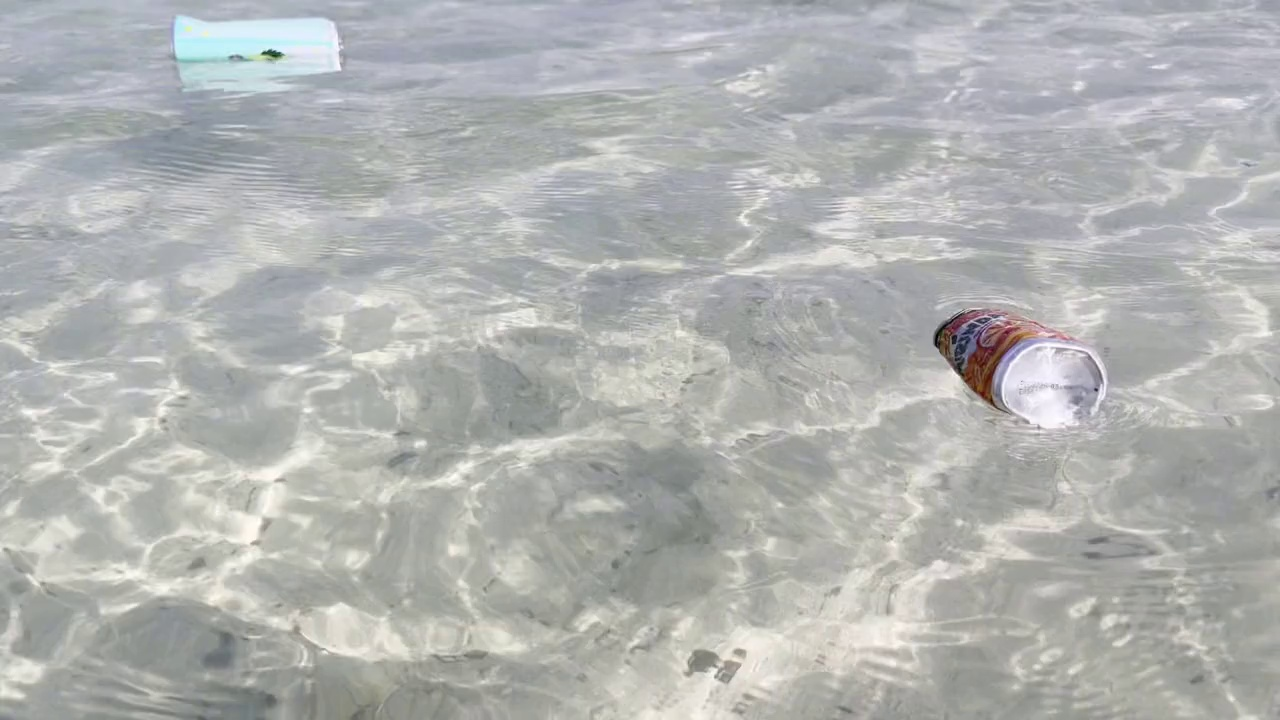debris: (926, 295, 1118, 440), (161, 5, 347, 78)
